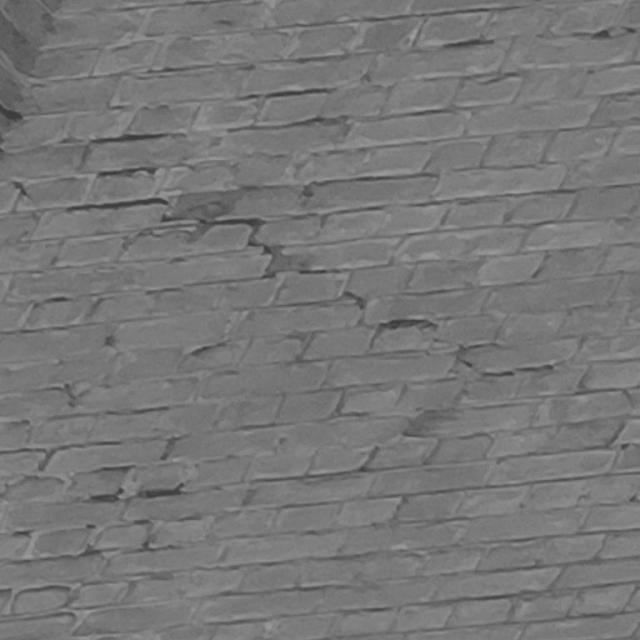crack: (65, 198, 553, 378)
